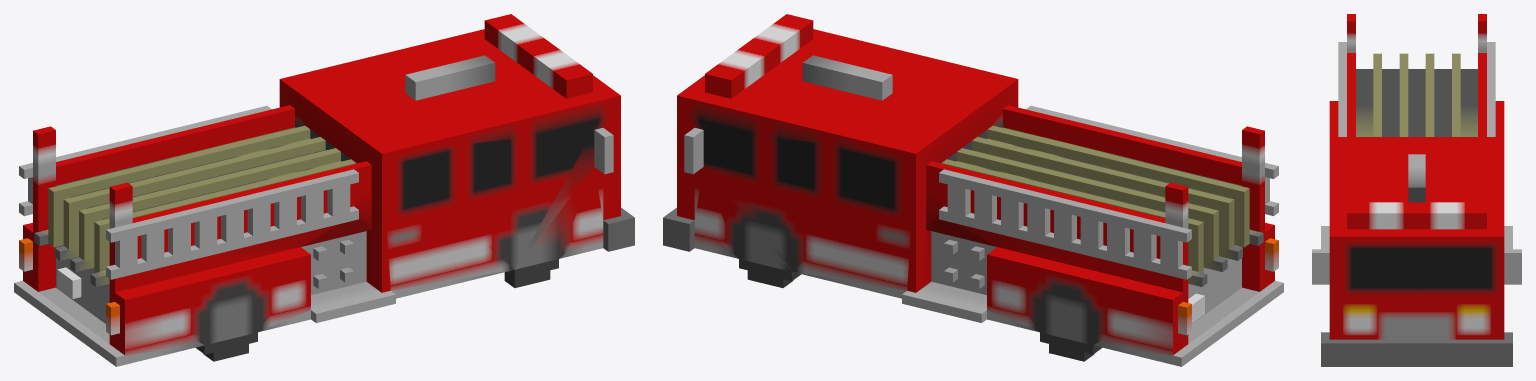
Rendered from veh_fire.fbx.
3 views of the same model, side by side, from view 1: azimuth 30°, elevation 25°; view 2: azimuth 150°, elevation 25°; view 3: azimuth 270°, elevation 25° (orthographic). The views are drawn at different scales.
Parts seen in each view (by area): view 1: veh_fire; view 2: veh_fire; view 3: veh_fire.
Boxes of the visible parts, x1,y1,x2,y2 form: veh_fire: [14, 14, 634, 366]; veh_fire: [663, 14, 1283, 366]; veh_fire: [1312, 14, 1521, 366].
Size of the model in its own units: 5.8 by 2.4 by 2.
1 material, 1 textured.
